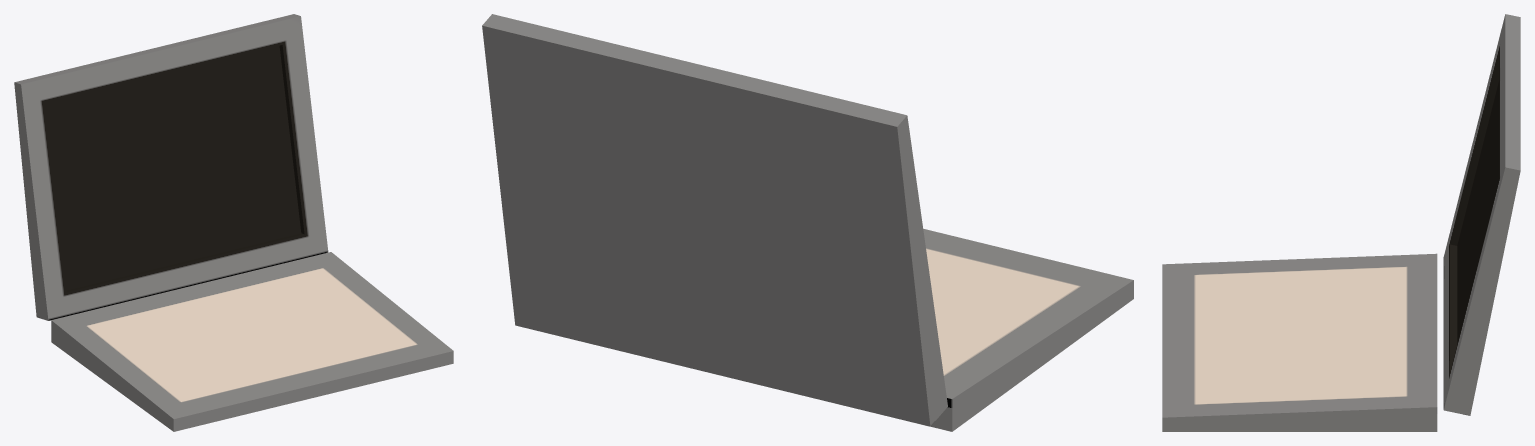
The model's file is Computer.glb.
3 views of the same model, side by side, from view 1: azimuth 30°, elevation 25°; view 2: azimuth 150°, elevation 25°; view 3: azimuth 270°, elevation 25° (orthographic). The views are drawn at different scales.
Parts seen in each view (by area): view 1: Computer; view 2: Computer; view 3: Computer.
Boxes of the visible parts, left/top/right/bottom form: Computer: left=14, top=14, right=453, bottom=431; Computer: left=482, top=14, right=1133, bottom=431; Computer: left=1162, top=14, right=1520, bottom=431.
Size of the model in its own units: 2.41 by 1.94 by 2.38.
Materials: 1 (1 with a texture image).
